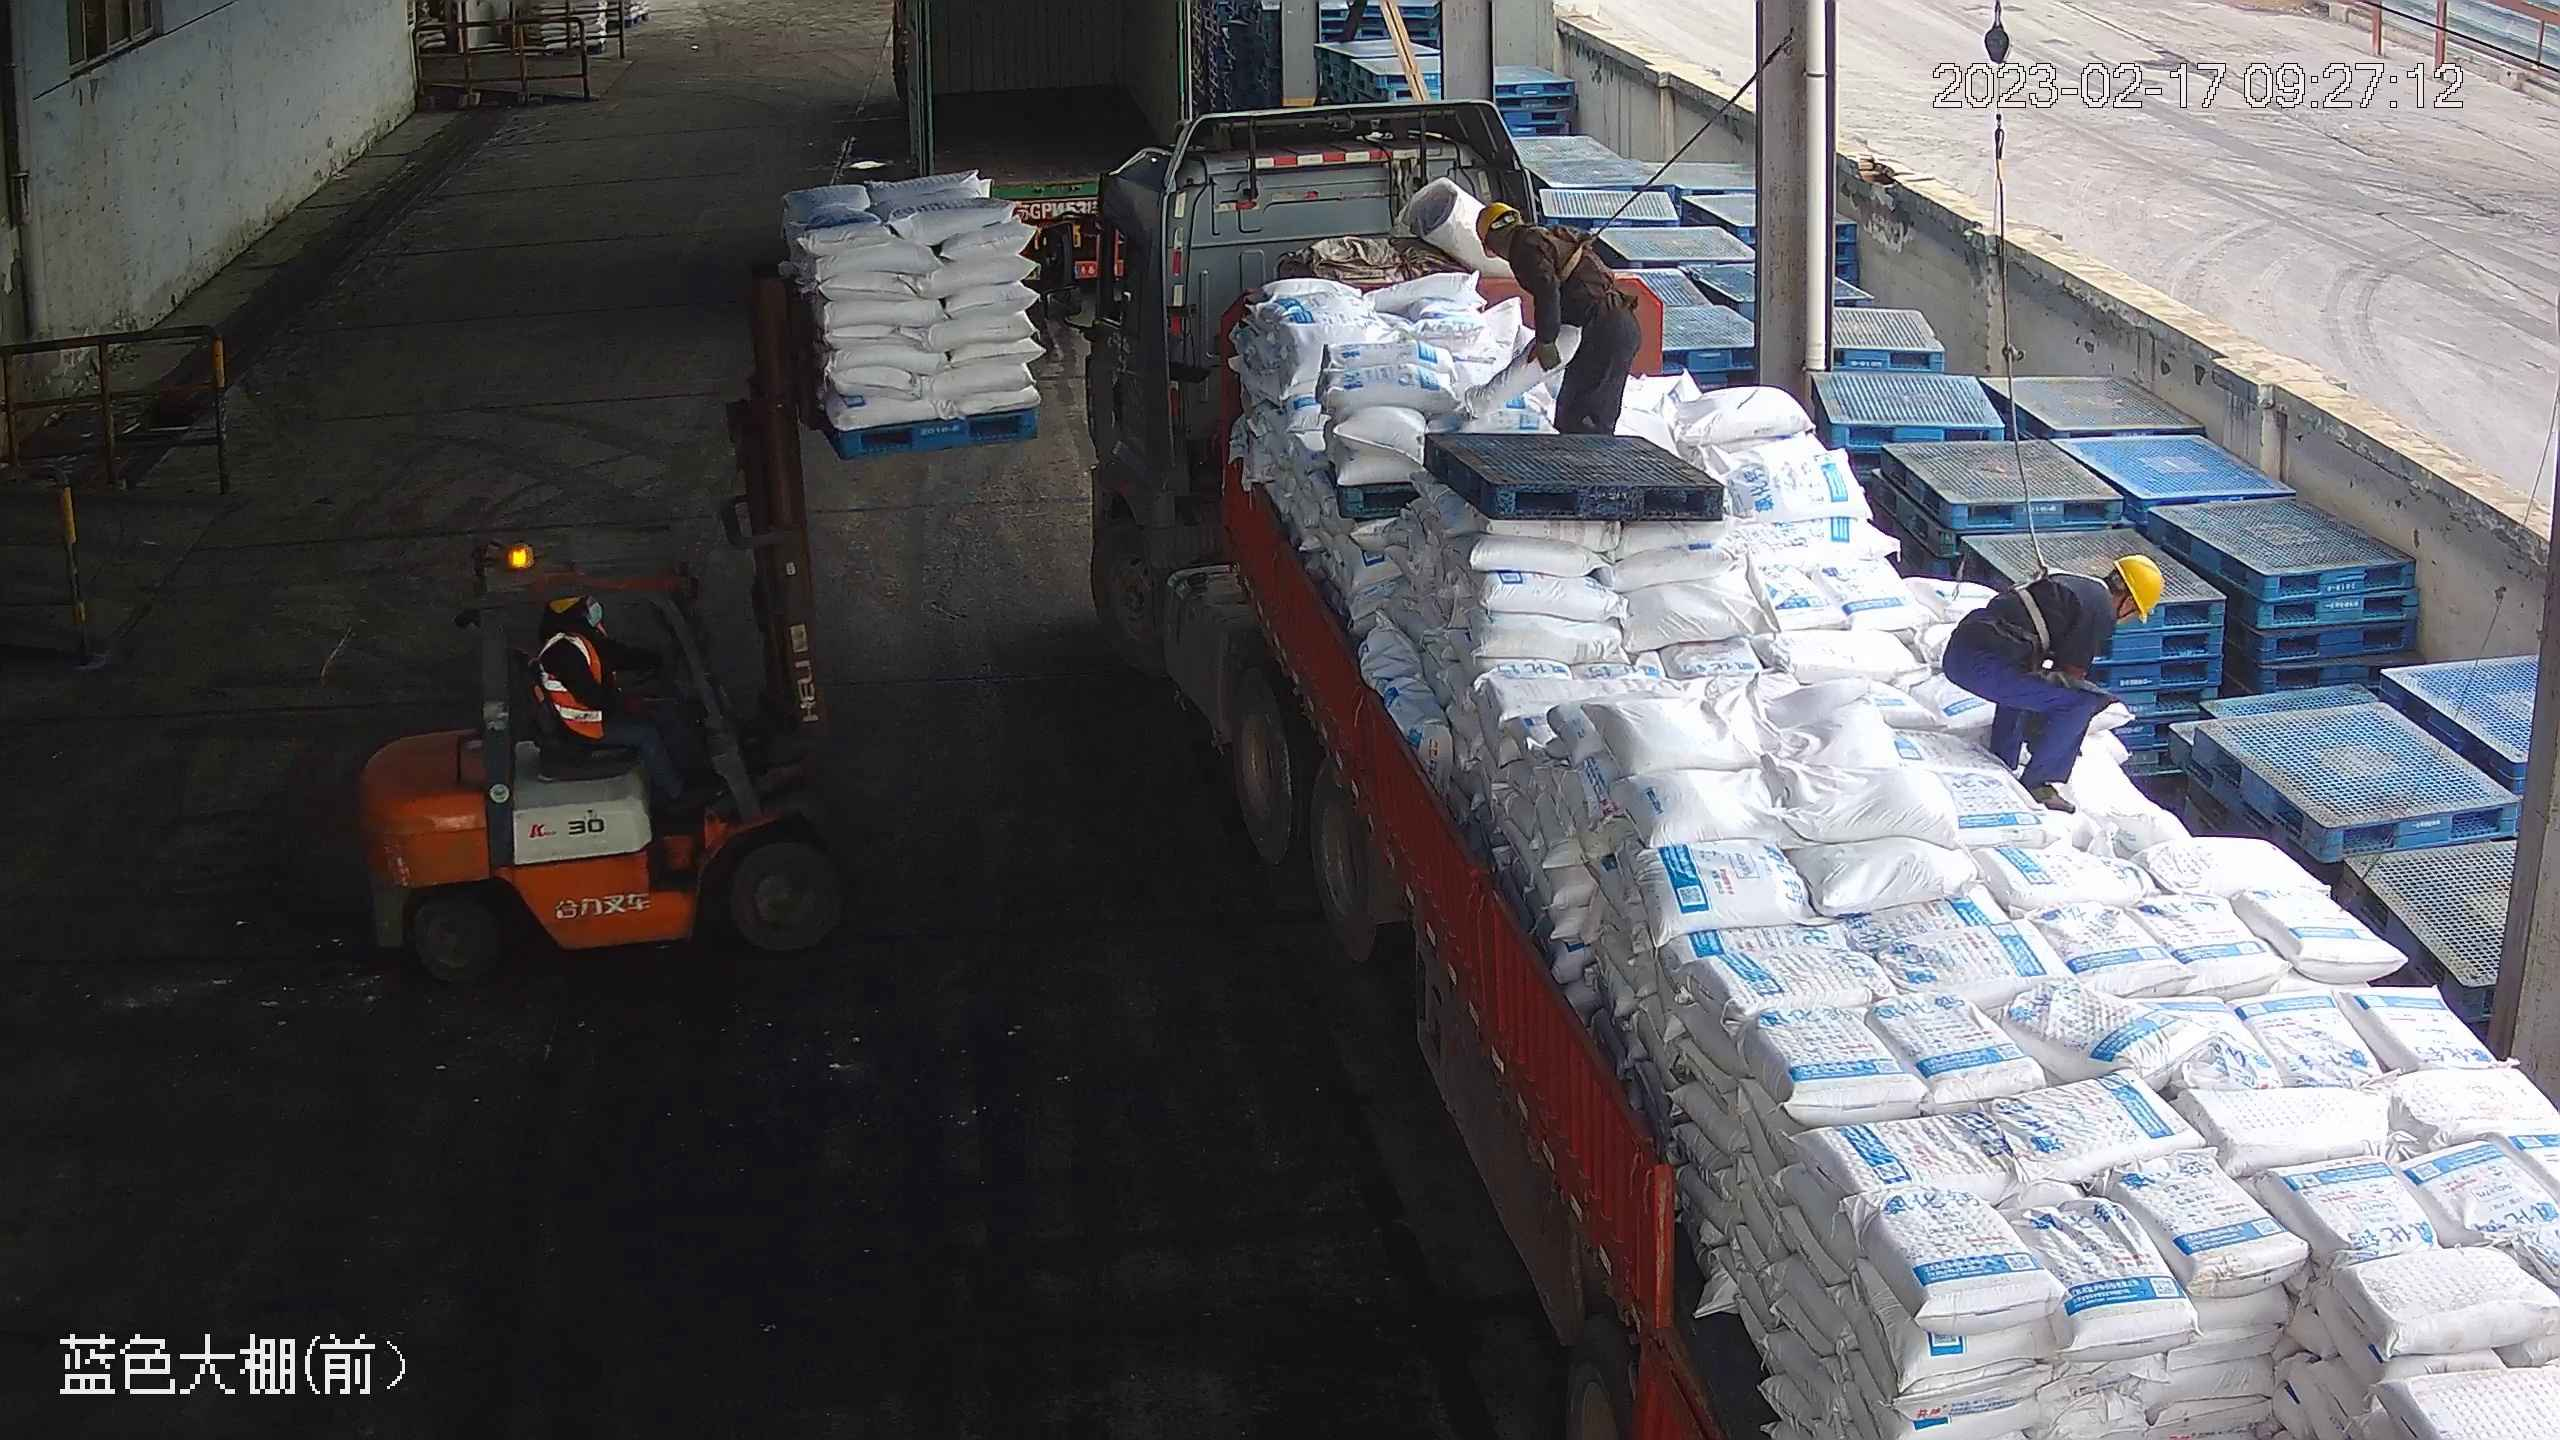belt: (2010, 562, 2116, 661), (1525, 214, 1596, 288)
head: (2043, 549, 2169, 655), (1475, 198, 1568, 275)
helmet: (2110, 549, 2163, 623), (1476, 199, 1520, 242)
people: (1944, 557, 2168, 808), (1470, 197, 1649, 436), (533, 587, 707, 802)
truck: (1039, 96, 2544, 1440), (884, 3, 1199, 296)
